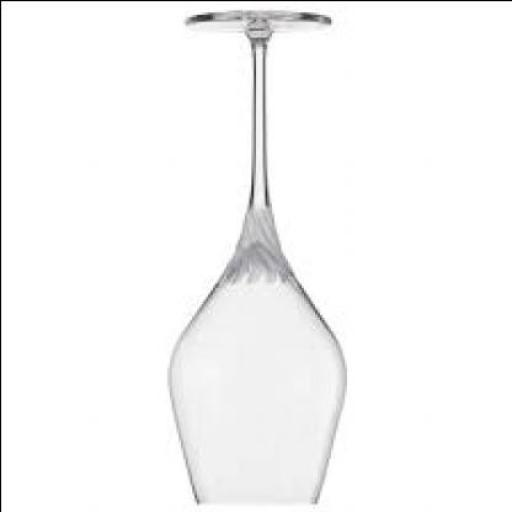glass: (164, 14, 343, 510)
